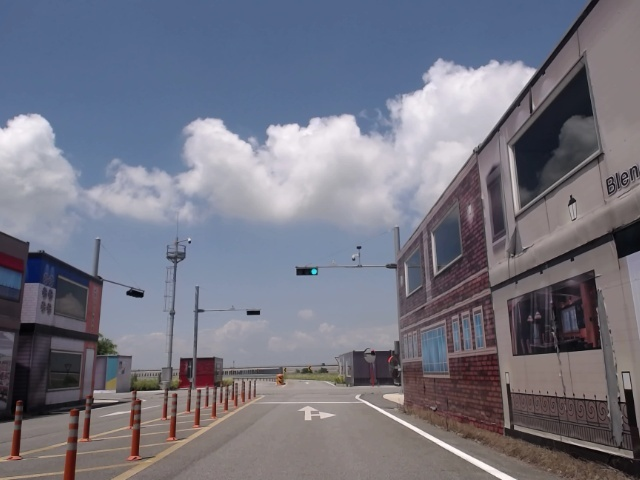green_3: (296, 267, 318, 276)
